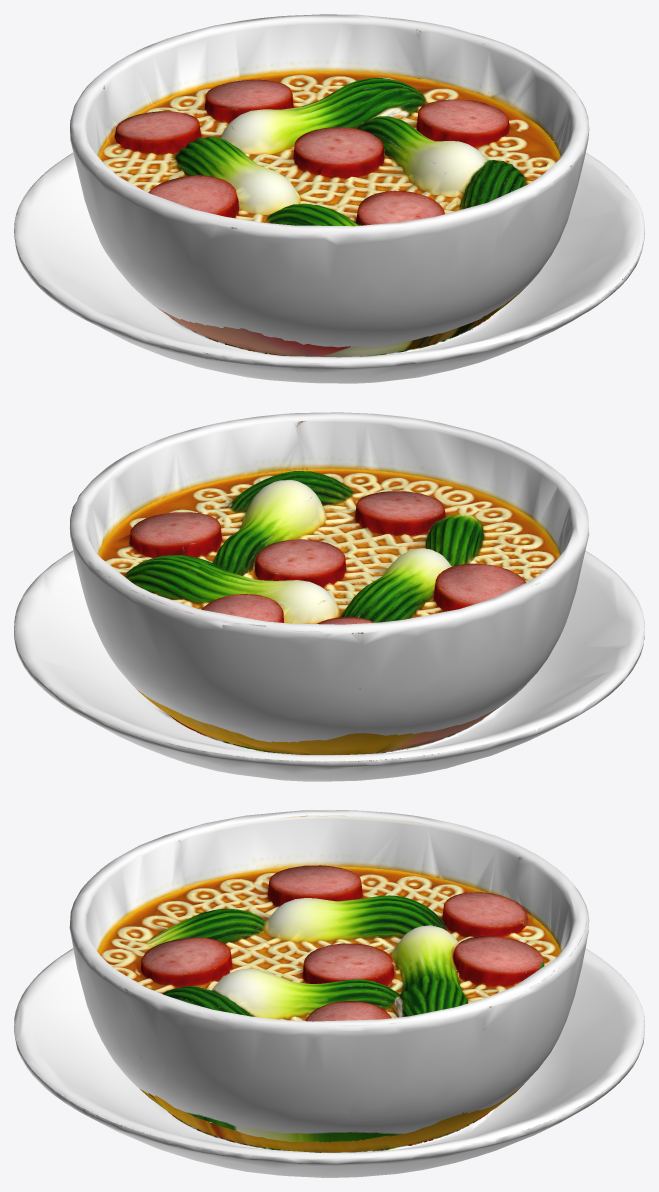
The model's file is plated-noodle.glb.
3 renders of one model, top to bottom at view 1: azimuth 30°, elevation 25°; view 2: azimuth 150°, elevation 25°; view 3: azimuth 270°, elevation 25°, orthographic.
Parts seen in each view (by area): view 1: mesh; view 2: mesh; view 3: mesh.
Boxes of the visible parts, x1,y1,x2,y2 form: mesh: (14,14,644,383); mesh: (14,412,644,781); mesh: (14,810,644,1177).
Bounding box in the file's own units: 2 × 0.6152 × 2.
1 material, 1 textured.
